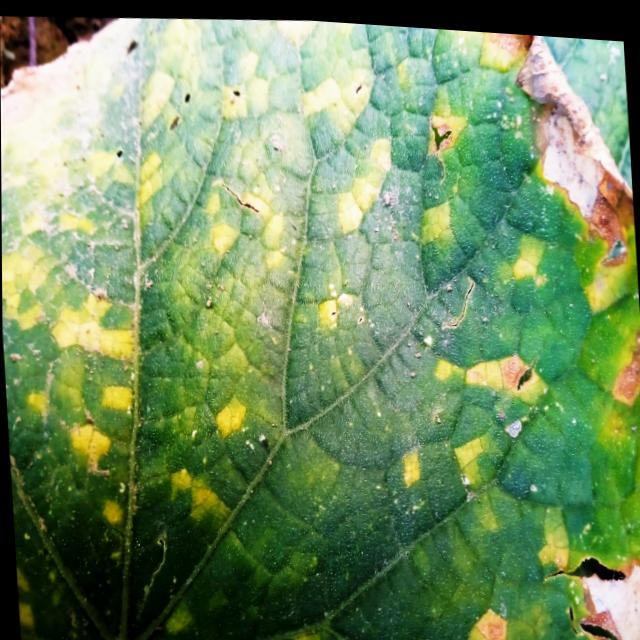Downy-Mildew: (1, 17, 640, 640)
